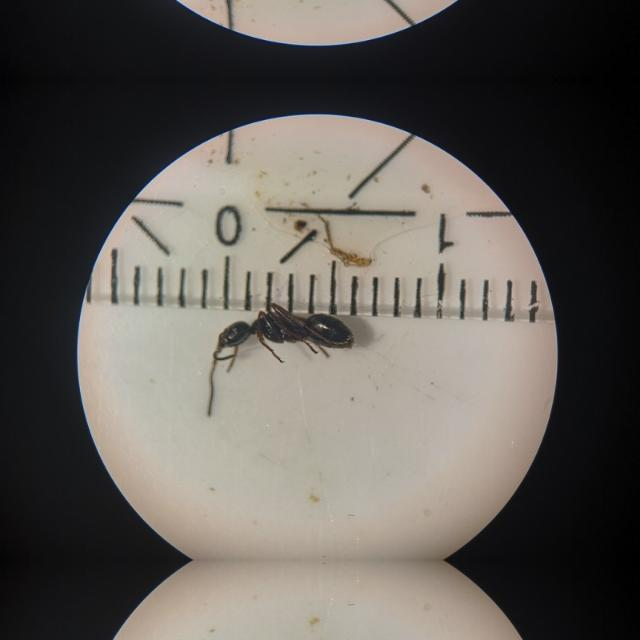Formica: (200, 290, 362, 372)
